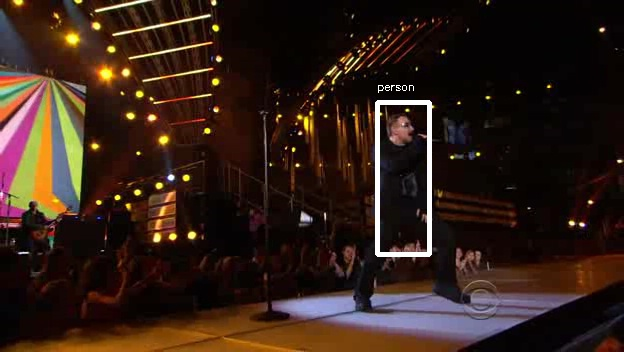person: (370, 115, 439, 240), (367, 115, 436, 240), (373, 115, 442, 240), (370, 112, 439, 237), (370, 118, 439, 243)
target_negative: (186, 48, 480, 164), (113, 196, 501, 224), (577, 53, 619, 155), (257, 312, 265, 337)
